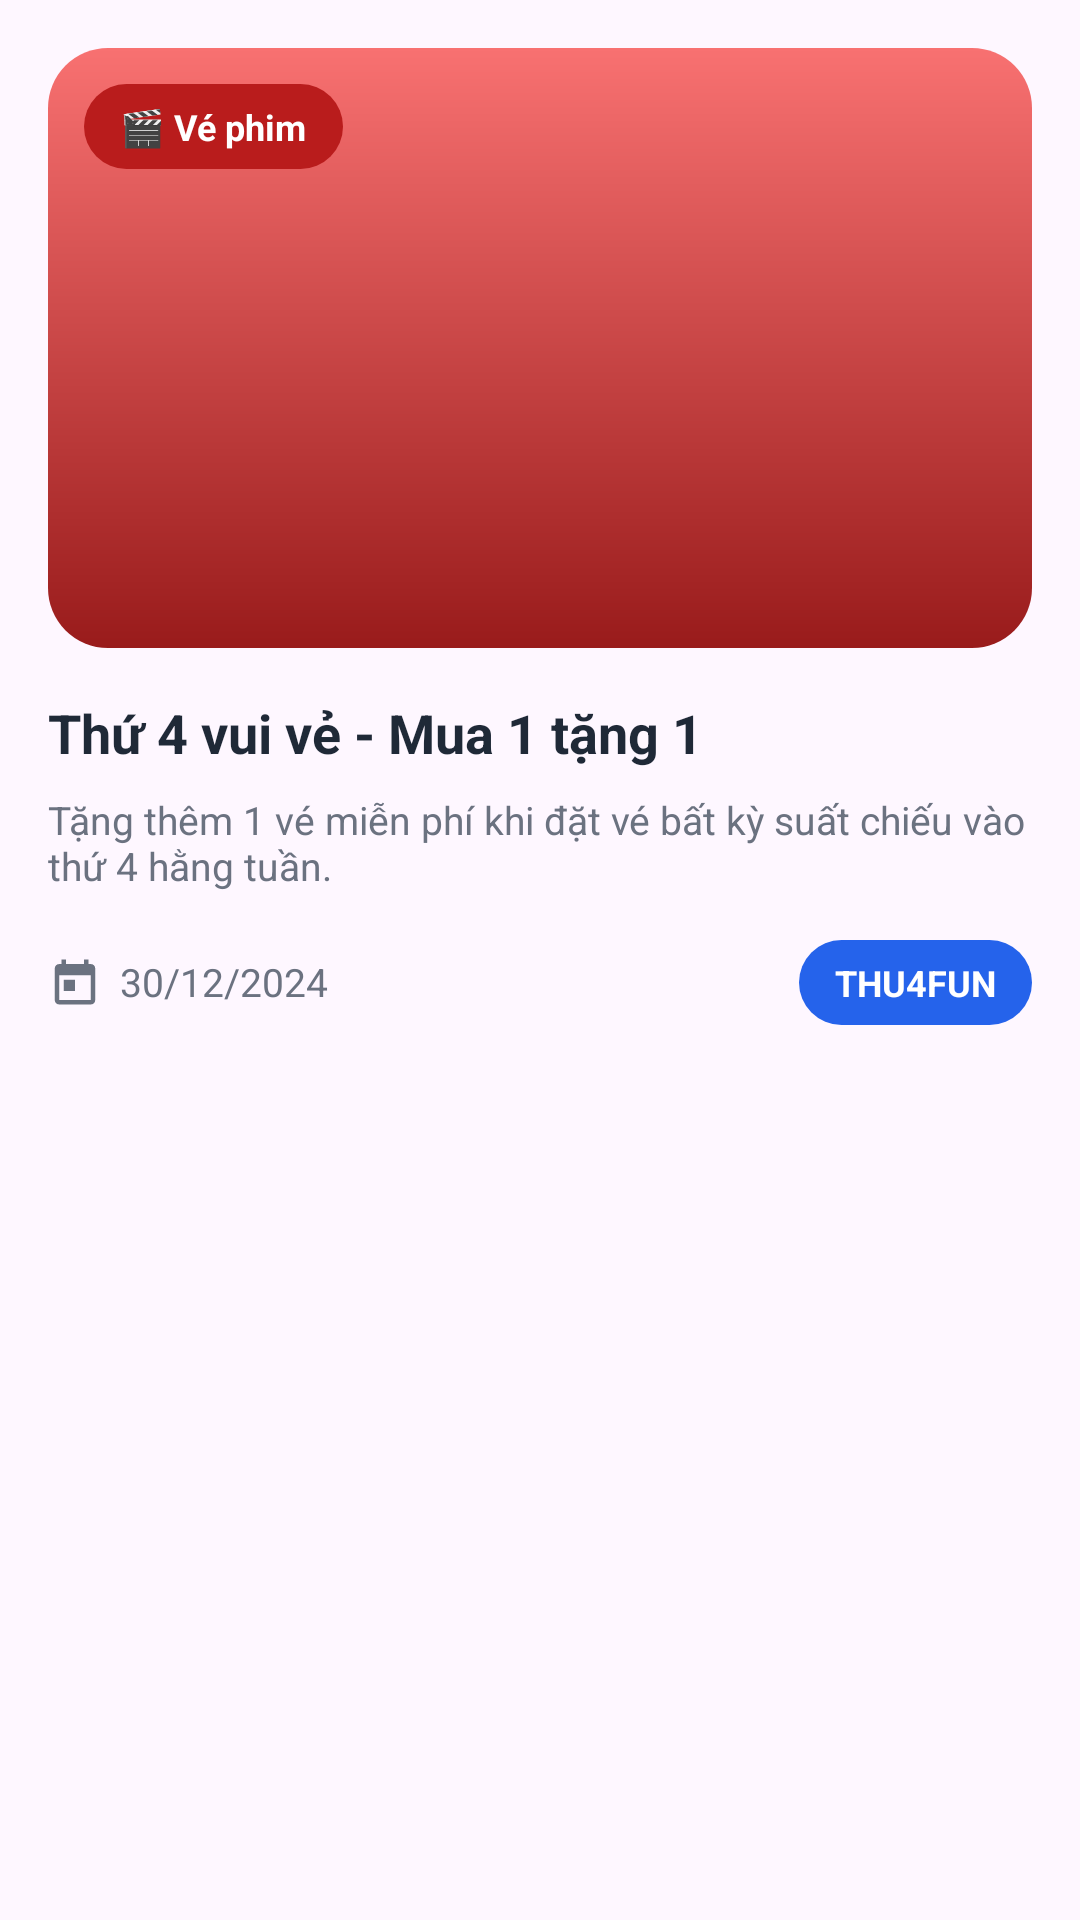

Icon bounding boxes for this 1080 × 1920 phone screenshot, format (x1, y1, x2, y2):
calendar: (54, 959, 96, 1005)
